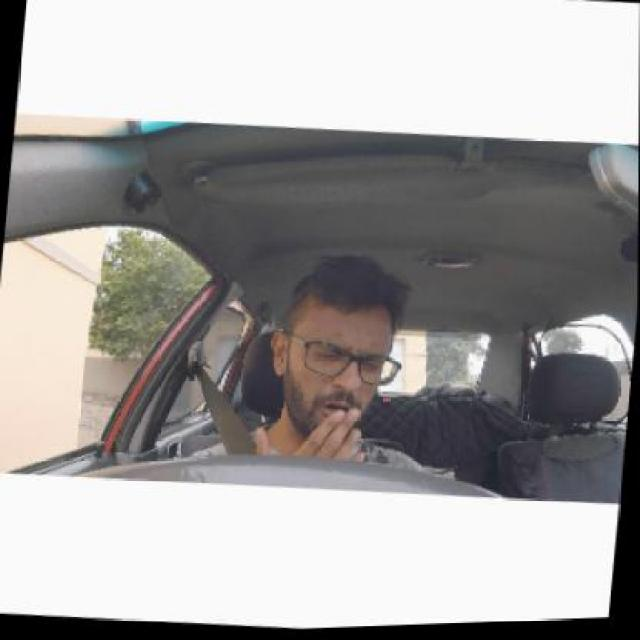drowsy: (264, 264, 418, 464)
